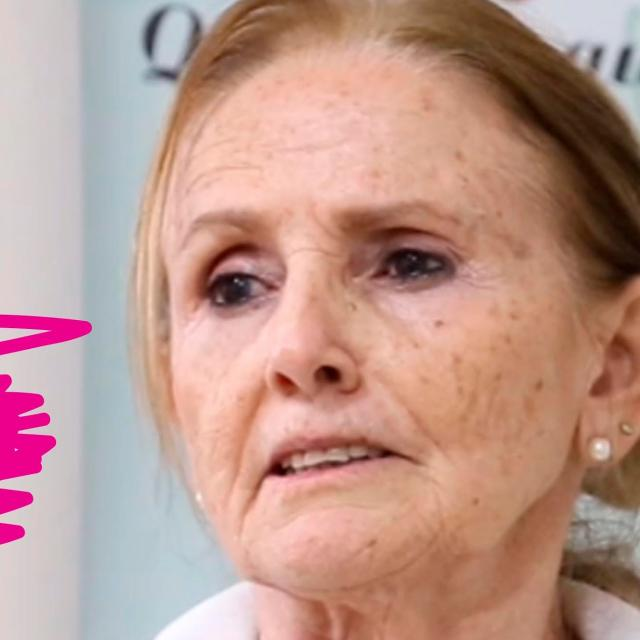Depress: (165, 51, 590, 590)
